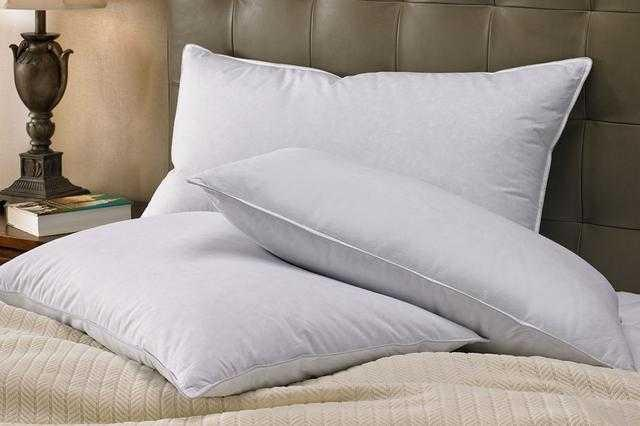pillow: (187, 145, 638, 371), (0, 209, 488, 399), (168, 43, 592, 234)
